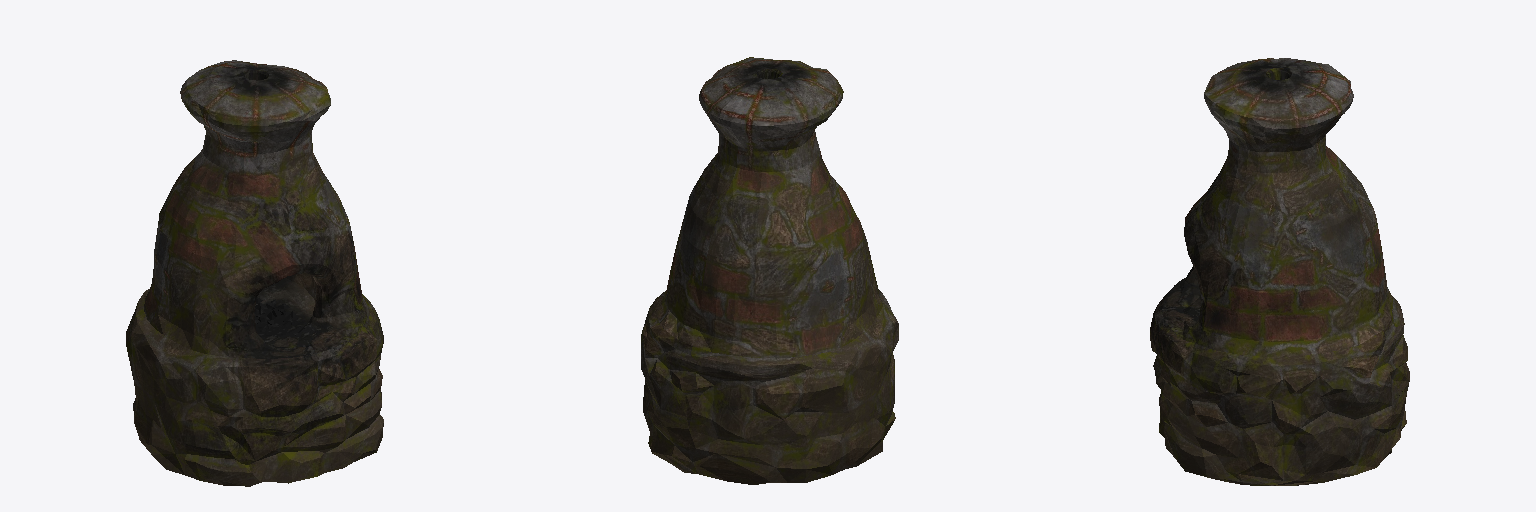
3 renders of one model, left to right at view 1: azimuth 30°, elevation 25°; view 2: azimuth 150°, elevation 25°; view 3: azimuth 270°, elevation 25°, orthographic.
Parts seen in each view (by area): view 1: object_0; view 2: object_0; view 3: object_0.
Part boxes in pixels (x1,y1,x2,y2): object_0: (126, 60, 383, 486); object_0: (641, 57, 898, 484); object_0: (1150, 58, 1409, 485).
Bounding box in the file's own units: 1.24 × 2 × 1.29.
1 materials, 1 textured.